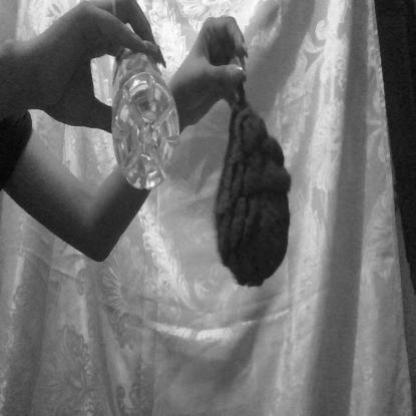Plastic Bottle: (87, 45, 192, 213)
